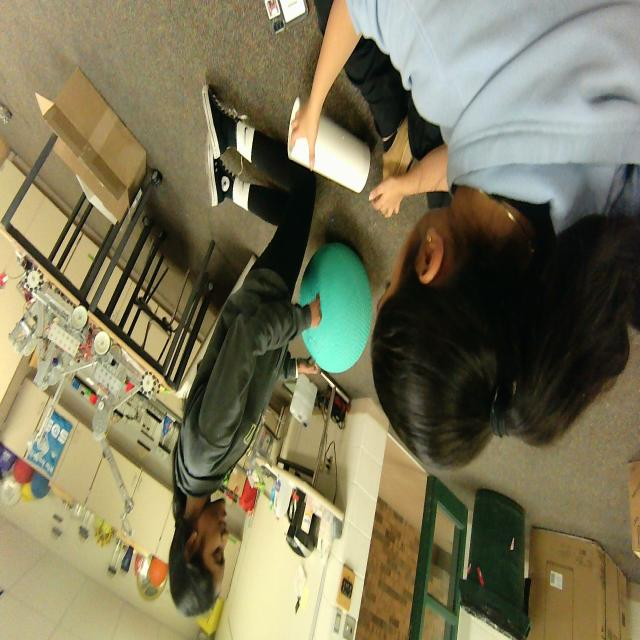algae: (298, 244, 372, 372)
coral: (288, 97, 370, 193)
